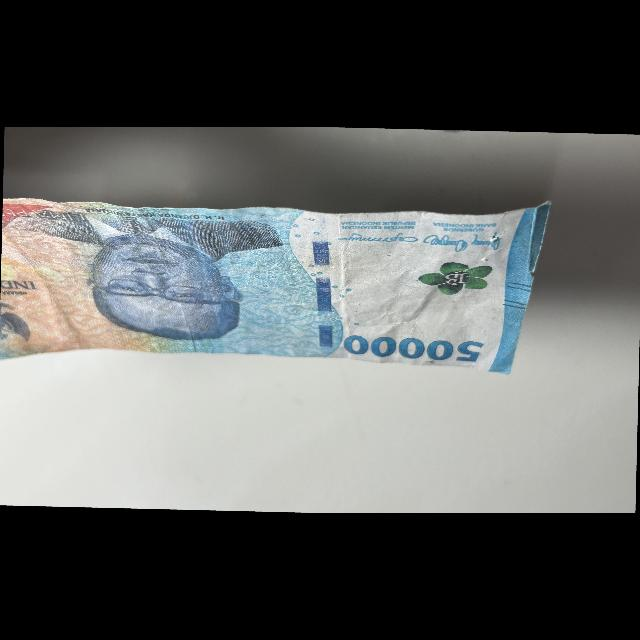Palsu-50k: (0, 195, 554, 377)
Tinta-Palsu-50k: (412, 259, 497, 299)
